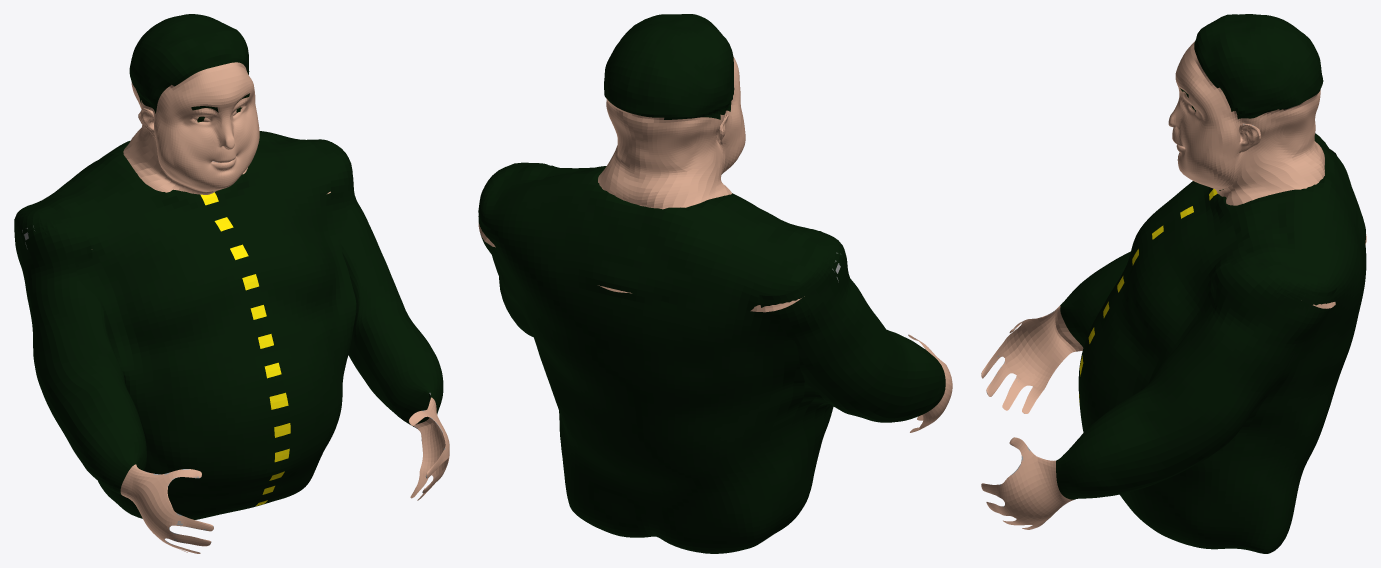
File: kim_fbx.fbx
The picture shows the model from 3 angles, left to right: view 1: azimuth 30°, elevation 25°; view 2: azimuth 150°, elevation 25°; view 3: azimuth 270°, elevation 25°; orthographic projection. The views are drawn at different scales.
Parts seen in each view (by area): view 1: hipoli1; view 2: hipoli1; view 3: hipoli1.
Part boxes in pixels (x1,y1,x2,y2): hipoli1: (14, 14, 449, 553); hipoli1: (478, 14, 952, 553); hipoli1: (981, 14, 1366, 553).
Bounding box in the file's own units: 2.68 × 3.41 × 2.39.
